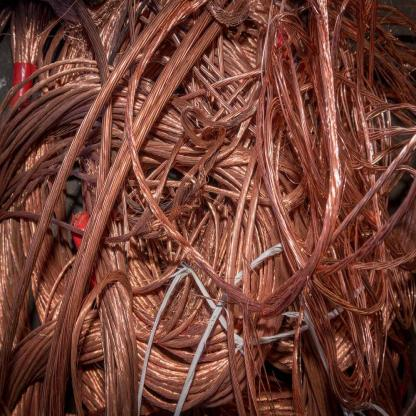wires: (1, 2, 416, 415)
